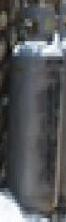cylinder: (0, 1, 66, 222)
